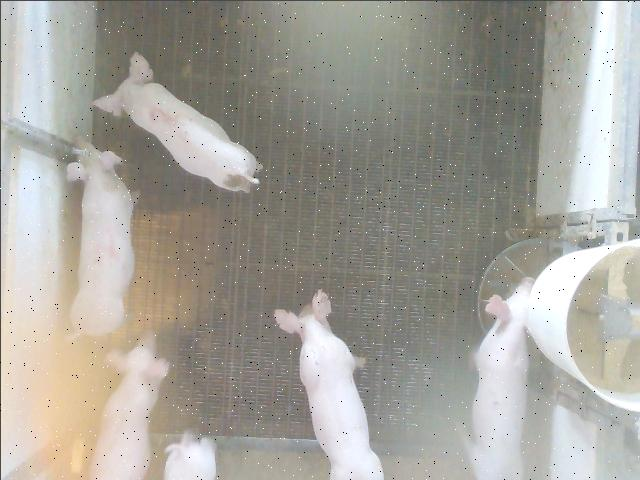pig-4: (66, 136, 138, 337)
pig-5: (92, 51, 261, 191)
